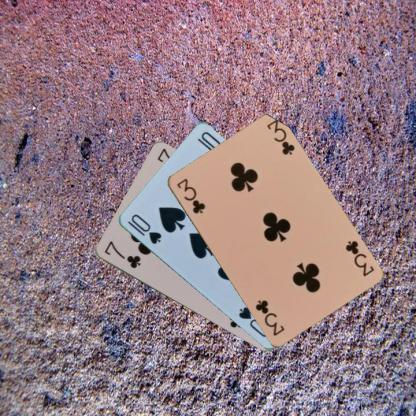10s: (124, 212, 163, 245)
3c: (342, 237, 376, 278), (174, 176, 206, 215)
7c: (101, 238, 142, 270)
